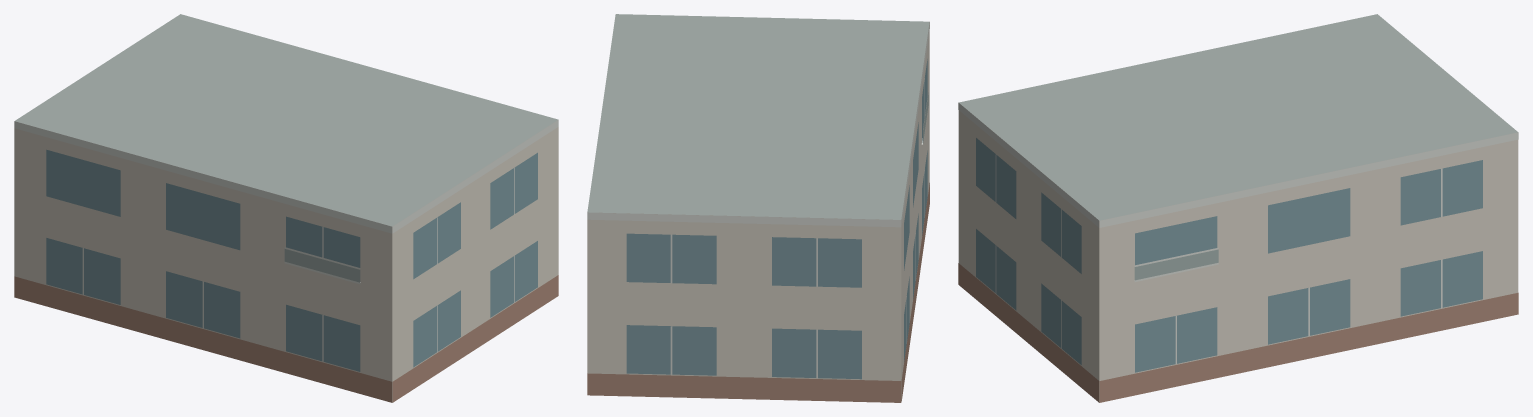
File: survey-upis-32704784.glb
The picture shows the model from 3 angles, left to right: view 1: azimuth 30°, elevation 25°; view 2: azimuth 150°, elevation 25°; view 3: azimuth 270°, elevation 25°; orthographic projection. The views are drawn at different scales.
Parts seen in each view (by area): view 1: survey-upis-32704784.tmp; view 2: survey-upis-32704784.tmp; view 3: survey-upis-32704784.tmp.
Part boxes in pixels (box(x1,y1,x2,y2)): survey-upis-32704784.tmp: box(14, 14, 558, 402); survey-upis-32704784.tmp: box(587, 14, 929, 402); survey-upis-32704784.tmp: box(958, 14, 1518, 402).
Size of the model in its own units: 14.86 by 6.1 by 17.01.
